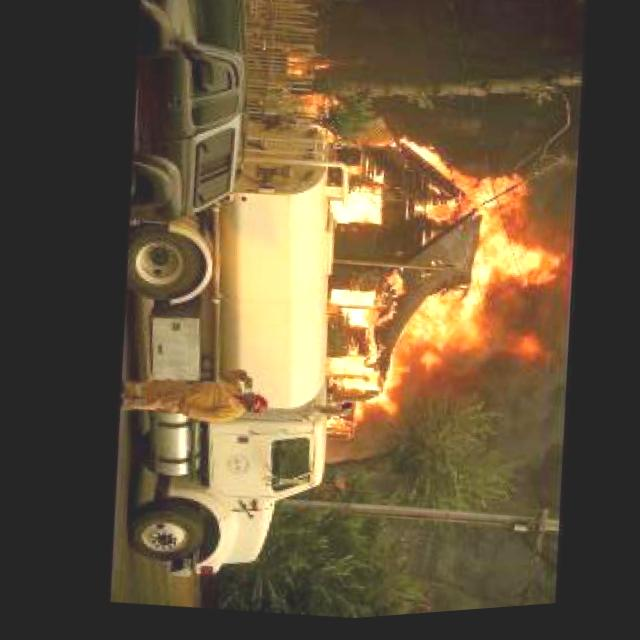Fire: (287, 116, 590, 478)
